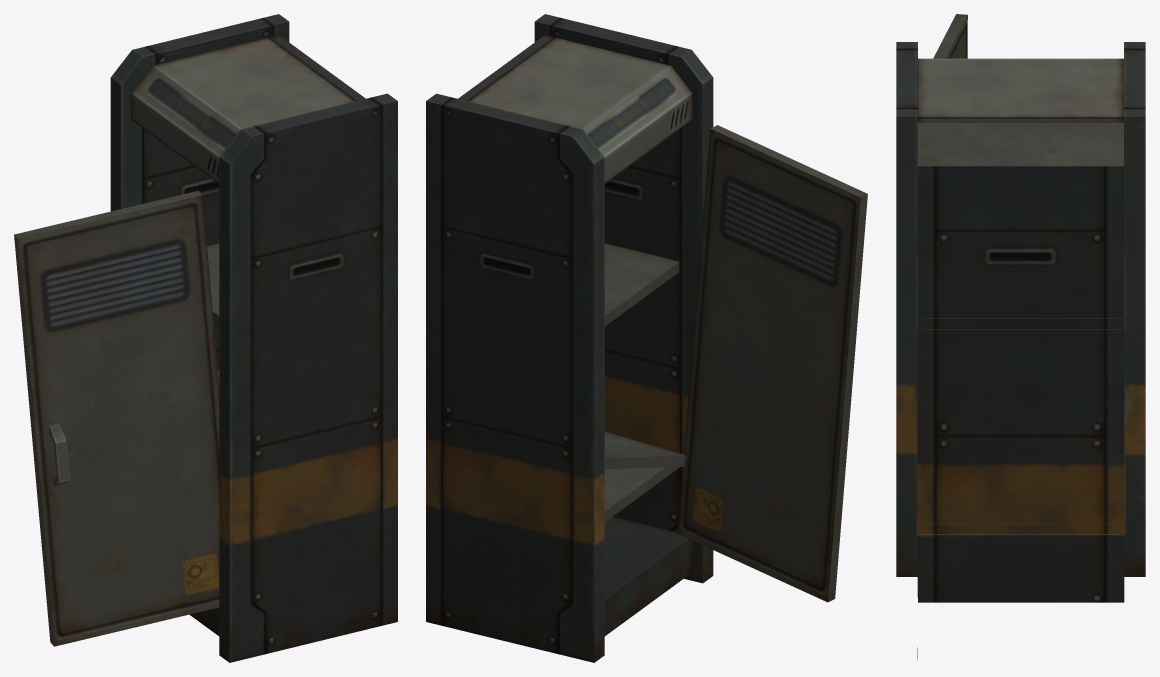
File: Locker03.FBX
3 views of the same model, side by side, from view 1: azimuth 30°, elevation 25°; view 2: azimuth 150°, elevation 25°; view 3: azimuth 270°, elevation 25° (orthographic). The views are drawn at different scales.
Parts seen in each view (by area): view 1: Locker03; view 2: Locker03; view 3: Locker03.
Boxes of the visible parts, x1,y1,x2,y2 form: Locker03: [14, 14, 397, 662]; Locker03: [426, 14, 867, 662]; Locker03: [896, 14, 1145, 660].
Bounding box in the file's own units: 1.62 × 2.29 × 0.9504.
1 material, 1 textured.
